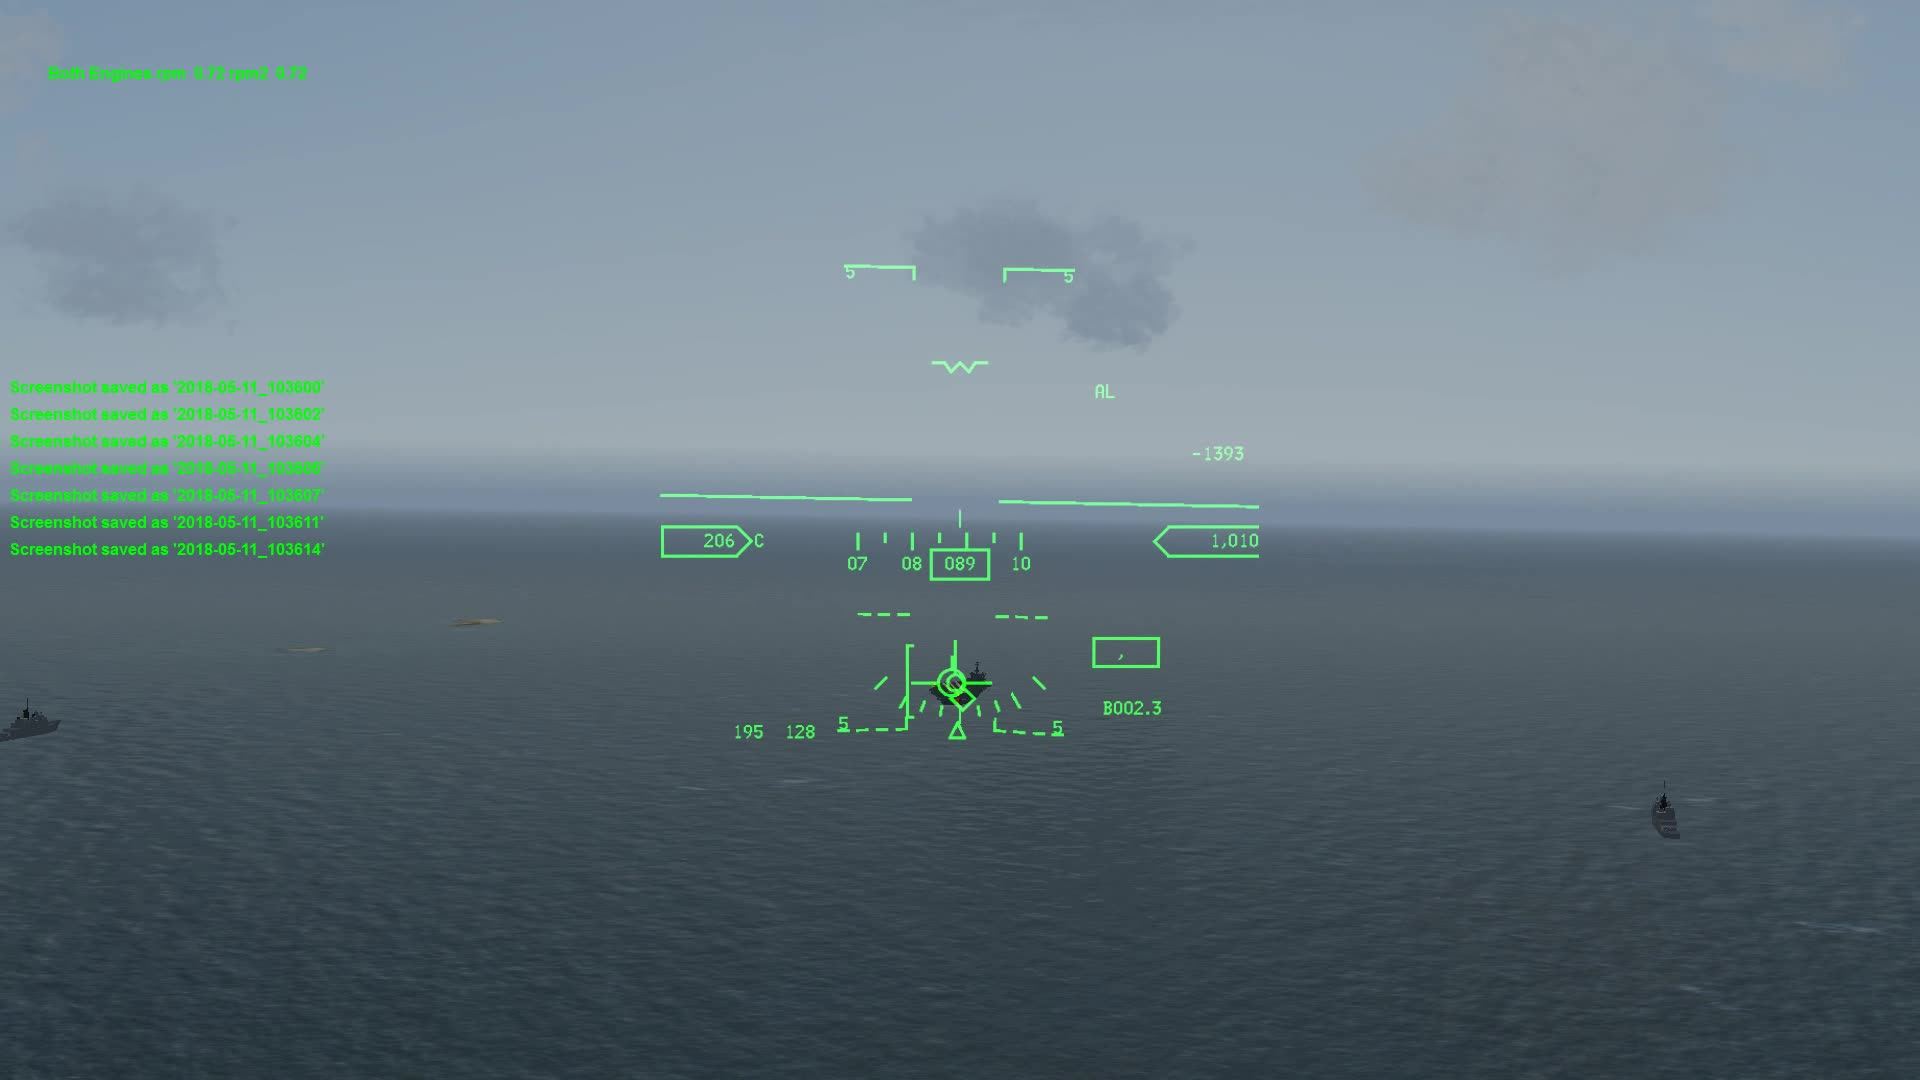speed vector: (909, 649, 996, 702)
